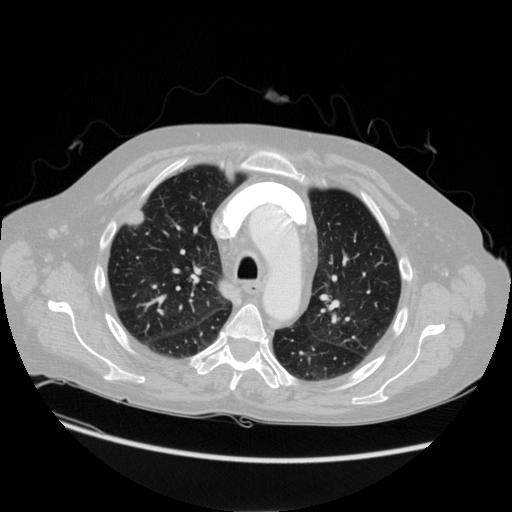nodule: (126, 208, 147, 229)
